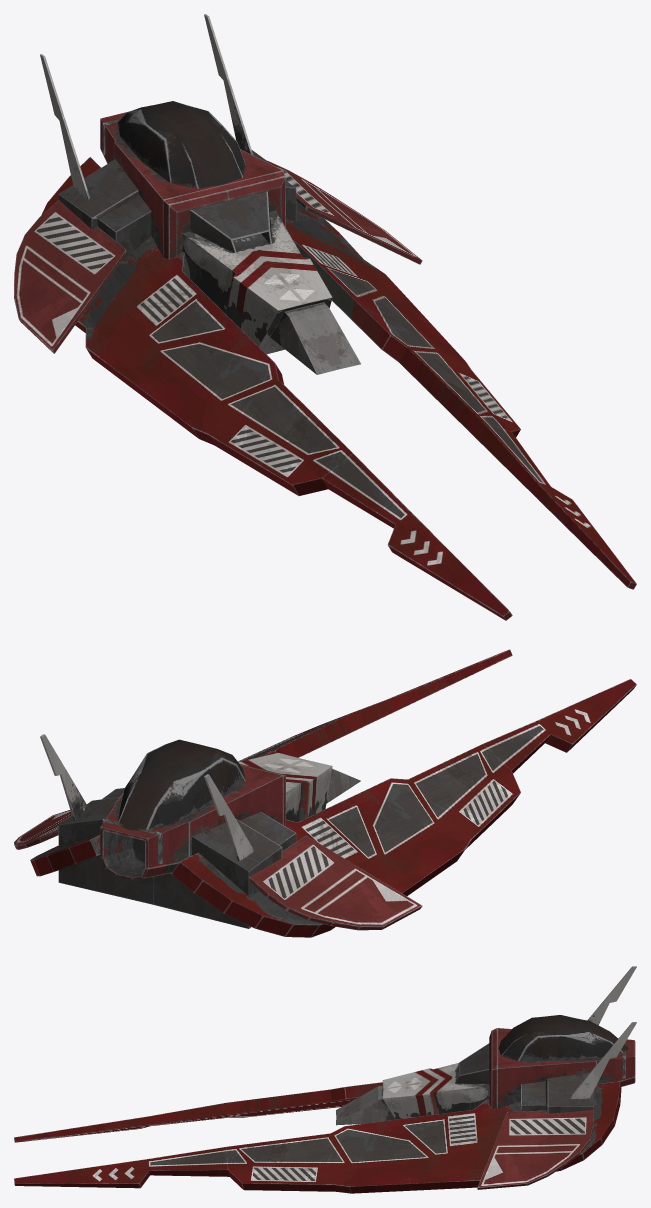
File: dispatcher_red.glb
3 views of the same model, one above another, from view 1: azimuth 30°, elevation 25°; view 2: azimuth 150°, elevation 25°; view 3: azimuth 270°, elevation 25° (orthographic). The views are drawn at different scales.
Visible parts, largest first — view 1: dispatcher; view 2: dispatcher; view 3: dispatcher.
Part boxes in pixels (bbox=[...]): dispatcher: bbox=[14, 14, 636, 620]; dispatcher: bbox=[14, 649, 636, 937]; dispatcher: bbox=[14, 966, 636, 1193].
Size of the model in its own units: 4.9 by 3.09 by 10.26.
Materials: 1 (1 with a texture image).
